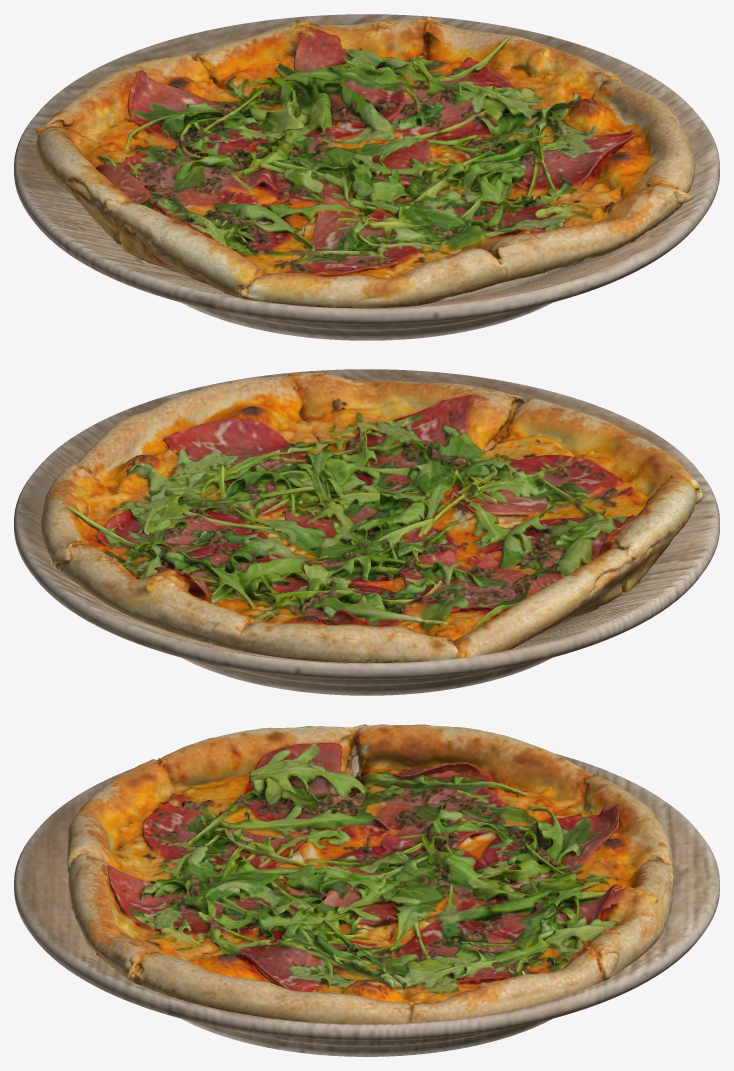
The model's file is pizza.gltf.
3 views of the same model, one above another, from view 1: azimuth 30°, elevation 25°; view 2: azimuth 150°, elevation 25°; view 3: azimuth 270°, elevation 25° (orthographic).
Visible parts, largest first — view 1: pizza, Tarelka001; view 2: pizza, Tarelka001; view 3: pizza, Tarelka001.
Boxes of the visible parts, <box> form: pizza: <box>36,16,695,308</box>; Tarelka001: <box>14,14,719,340</box>; pizza: <box>41,372,703,662</box>; Tarelka001: <box>14,369,719,695</box>; pizza: <box>67,724,673,1024</box>; Tarelka001: <box>14,753,719,1056</box>.
Bounding box in the file's own units: 0.4859 × 0.0828 × 0.4859.
2 materials, 2 textured.
